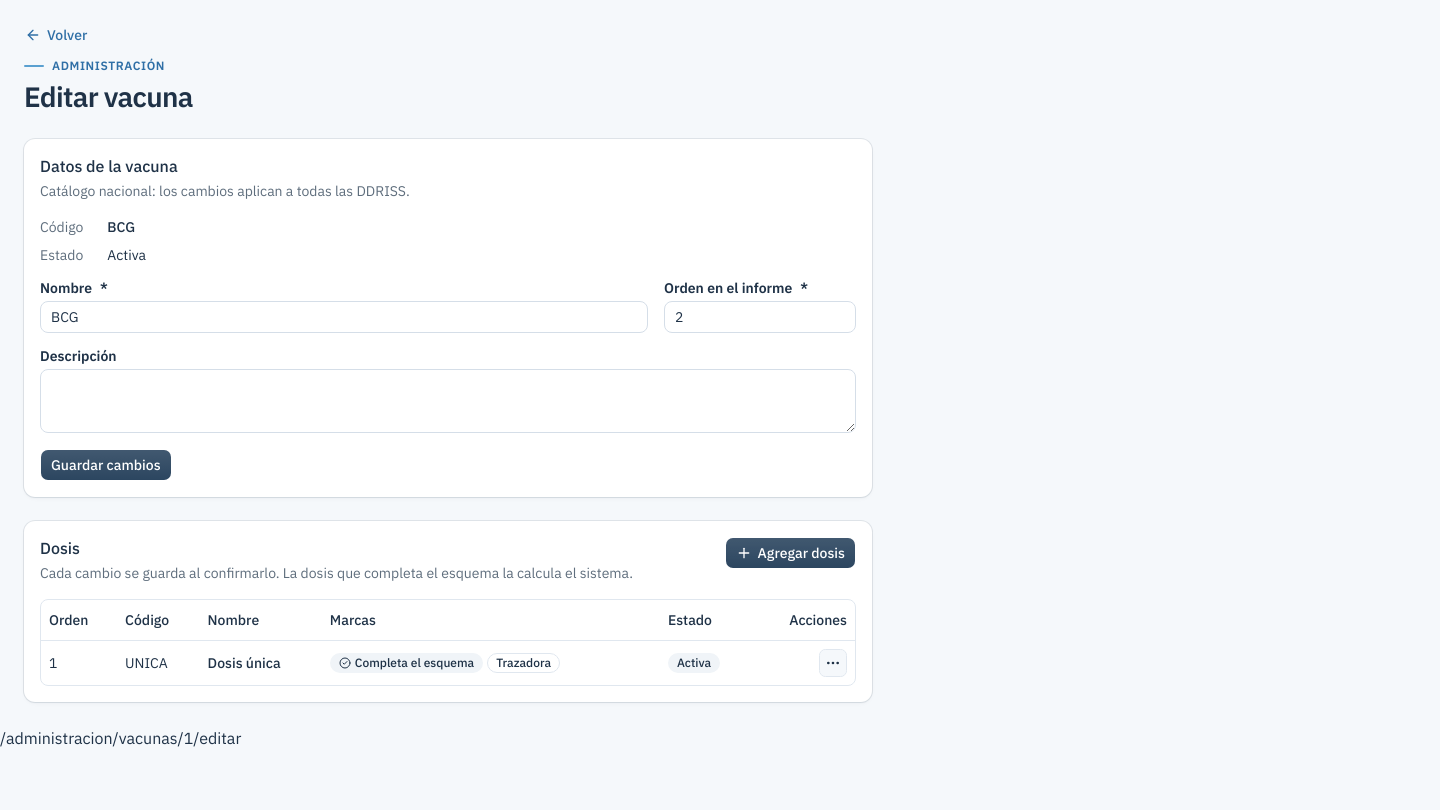
it: en una vacuna con UNICA, el Dialog no ofrece el tipo "Dosis"
Expected: the table "Dosis" is shown, [41, 600, 855, 685]
What coordinates should you click on to do the following:
click the button "Agregar dosis"
I would click on:
 (790, 553)
Its box is [725, 537, 856, 569].
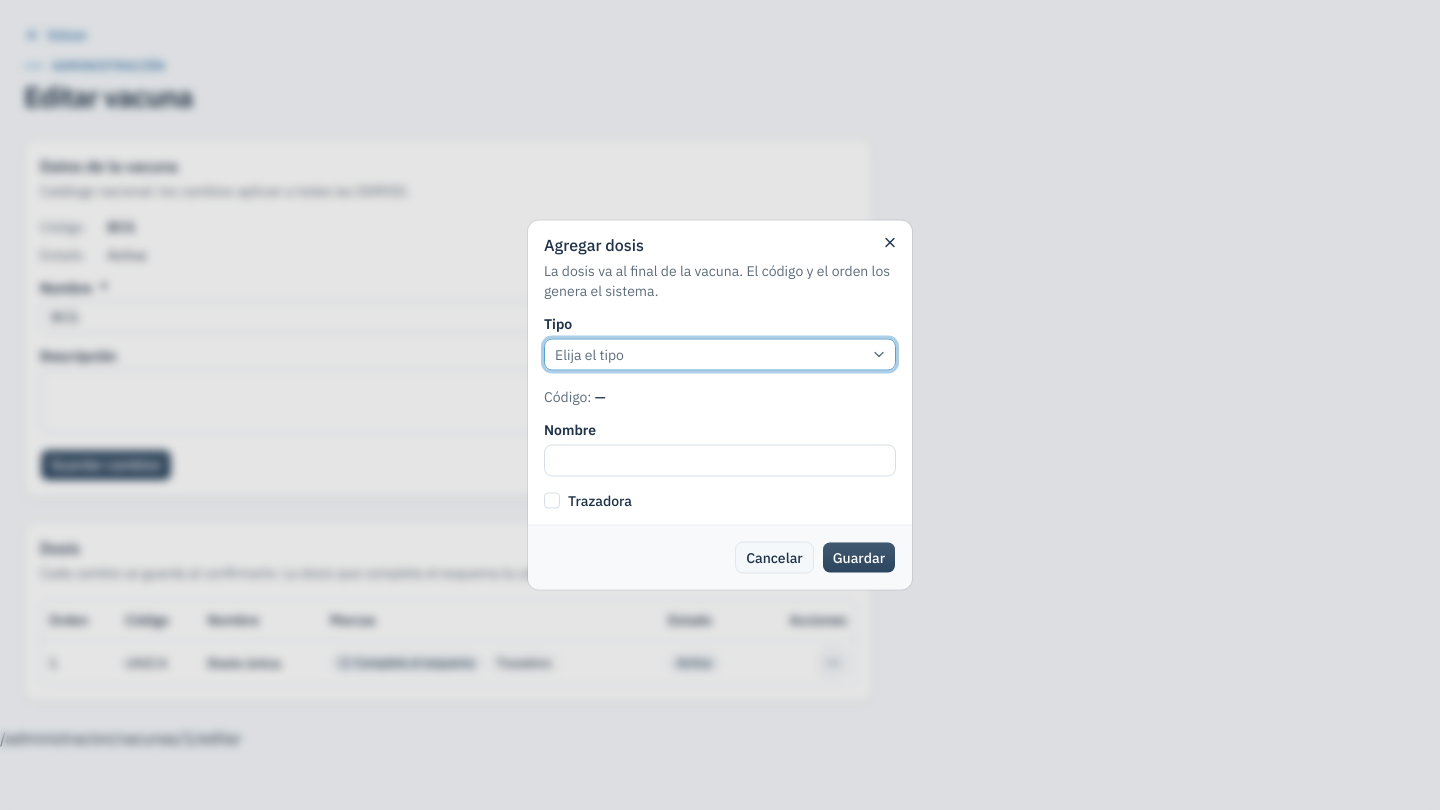
Now the dialog is shown, box [528, 220, 912, 590]
